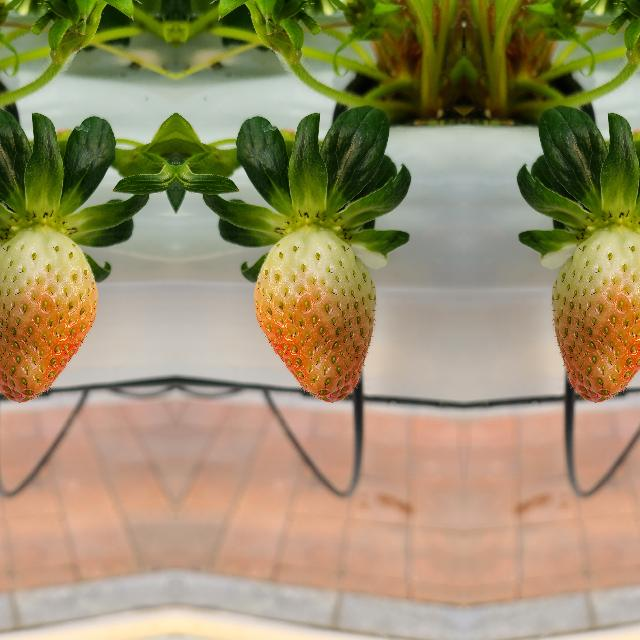Health_50: (252, 230, 376, 404), (0, 230, 97, 404), (550, 230, 640, 404)
